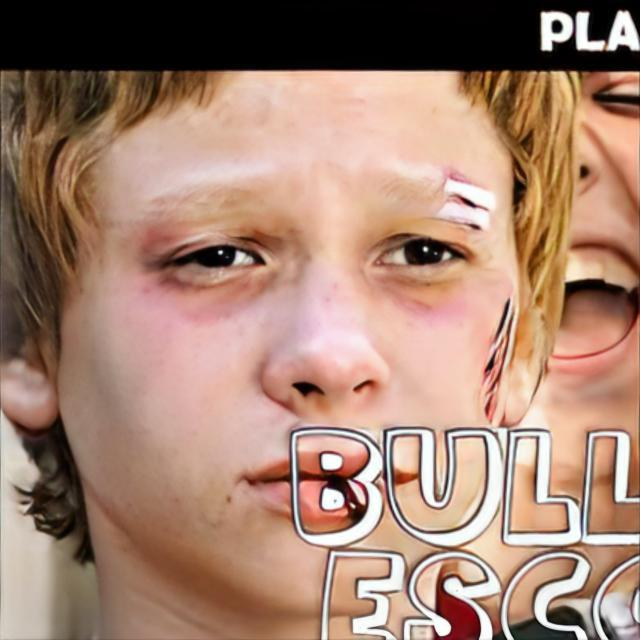sad: (54, 70, 522, 615)
